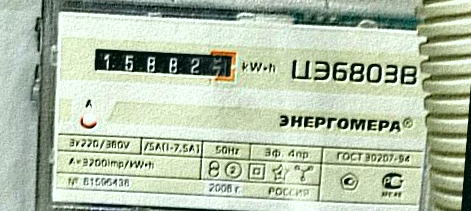1: (100, 51, 112, 70)
2: (188, 56, 201, 75)
5: (122, 54, 135, 72)
7: (210, 65, 222, 77)
8: (143, 55, 157, 73), (166, 55, 179, 74)
screen: (85, 37, 242, 90)
